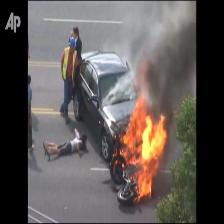fire: (121, 122, 164, 191)
smoke: (146, 25, 191, 104)
